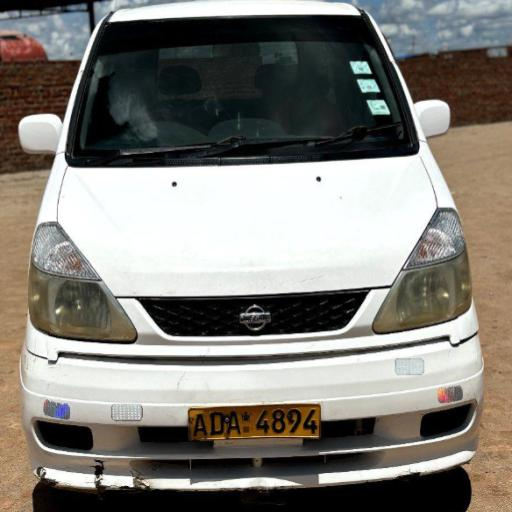number-plates: (190, 402, 322, 440)
